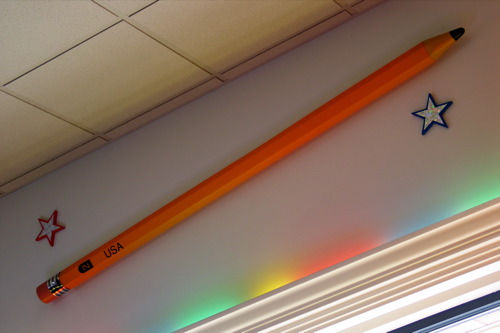pen_tip: (415, 16, 472, 71)
